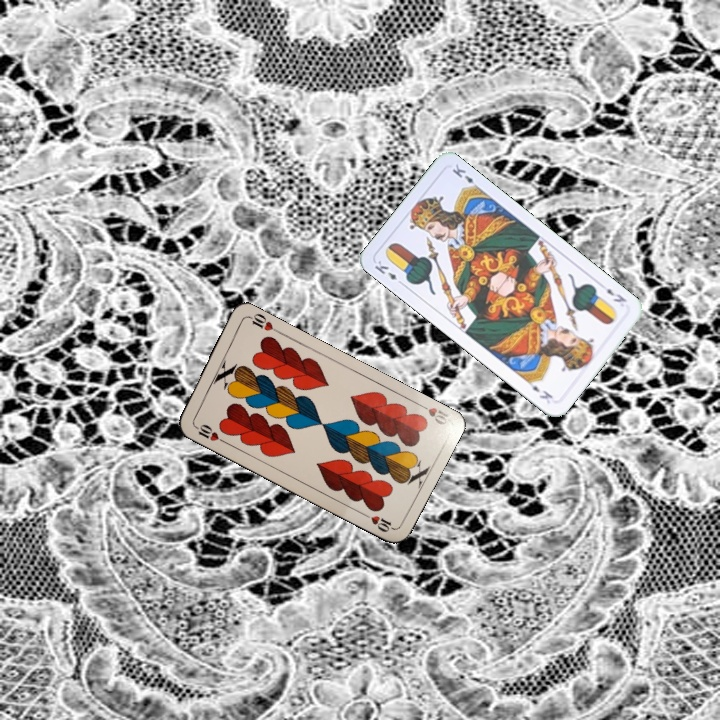EK: (371, 256, 407, 288), (602, 284, 629, 305)
H10: (414, 399, 451, 427), (189, 420, 227, 445)
